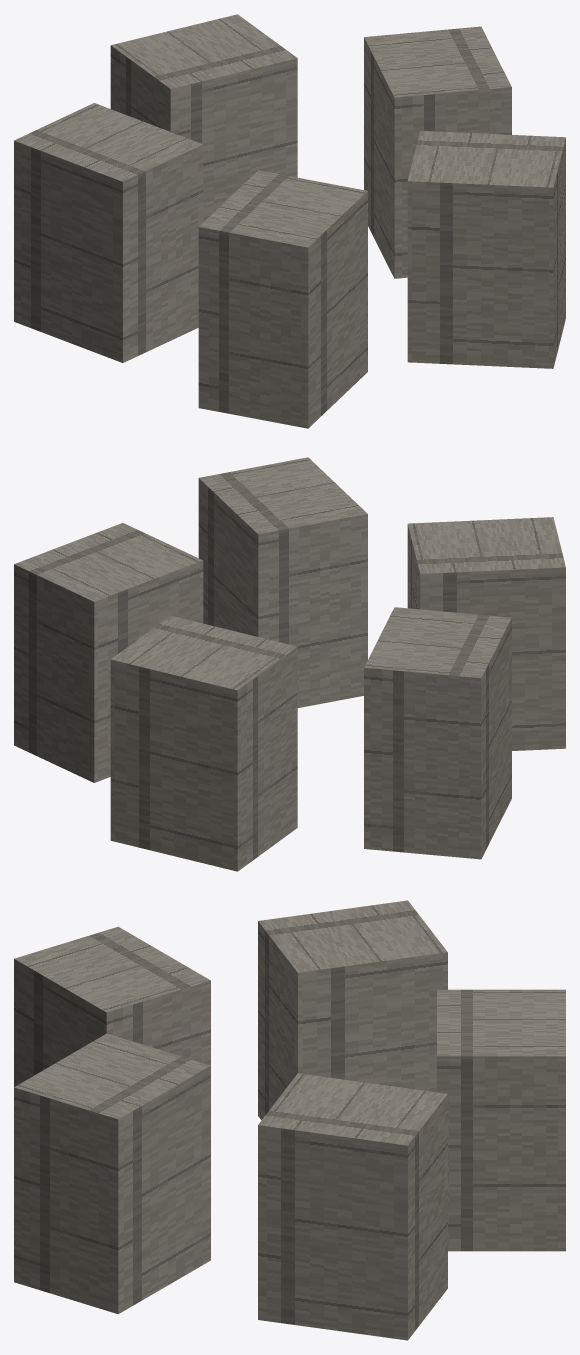
The model's file is deco_stones.glb.
3 renders of one model, top to bottom at view 1: azimuth 30°, elevation 25°; view 2: azimuth 150°, elevation 25°; view 3: azimuth 270°, elevation 25°, orthographic. The views are drawn at different scales.
Parts seen in each view (by area): view 1: Stein4, Stein3, Stein2.001, Stein0.001, Stein1.001; view 2: Stein0.001, Stein4, Stein2.001, Stein1.001, Stein3; view 3: Stein2.001, Stein1.001, Stein0.001, Stein4, Stein3.
Part boxes in pixels (left/top/right/bottom): Stein4: left=14, top=103, right=203, bottom=362; Stein3: left=198, top=170, right=367, bottom=428; Stein2.001: left=407, top=131, right=565, bottom=368; Stein0.001: left=110, top=14, right=297, bottom=221; Stein1.001: left=364, top=26, right=511, bottom=278; Stein0.001: left=110, top=615, right=297, bottom=871; Stein4: left=364, top=607, right=511, bottom=859; Stein2.001: left=198, top=457, right=367, bottom=707; Stein1.001: left=14, top=523, right=203, bottom=782; Stein3: left=407, top=517, right=565, bottom=750; Stein2.001: left=14, top=1033, right=210, bottom=1314; Stein1.001: left=258, top=1073, right=447, bottom=1340; Stein0.001: left=437, top=989, right=565, bottom=1251; Stein4: left=258, top=900, right=447, bottom=1119; Stein3: left=14, top=926, right=210, bottom=1086.
Bounding box in the file's own units: 0.8098 × 0.3 × 0.7702.
1 material, 1 textured.
